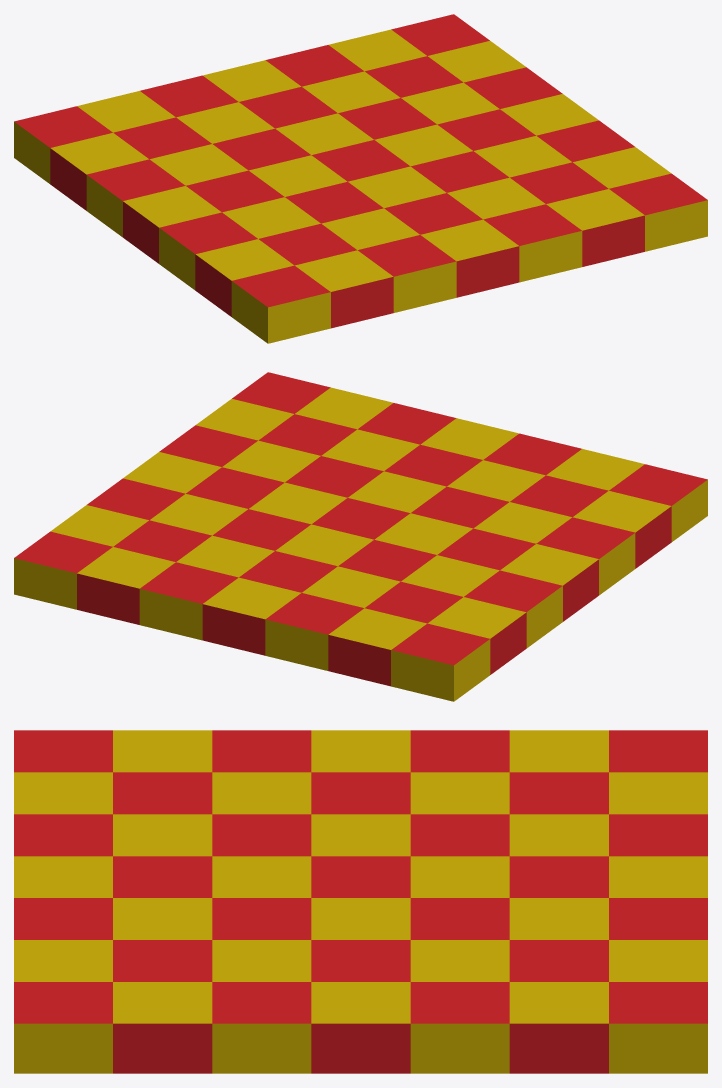
File: FinishPlane.fbx
3 views of the same model, one above another, from view 1: azimuth 30°, elevation 25°; view 2: azimuth 150°, elevation 25°; view 3: azimuth 270°, elevation 25° (orthographic). The views are drawn at different scales.
Visible parts, largest first — view 1: Finish; view 2: Finish; view 3: Finish.
Boxes of the visible parts, x1,y1,x2,y2 form: Finish: [14, 14, 707, 343]; Finish: [14, 372, 707, 701]; Finish: [14, 730, 707, 1073].
Bounding box in the file's own units: 585 × 46.23 × 585.
